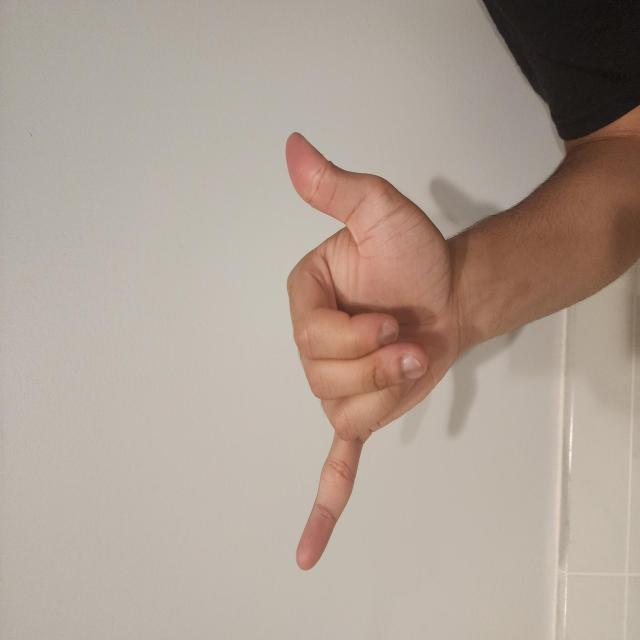Y: (50, 373, 392, 622)
